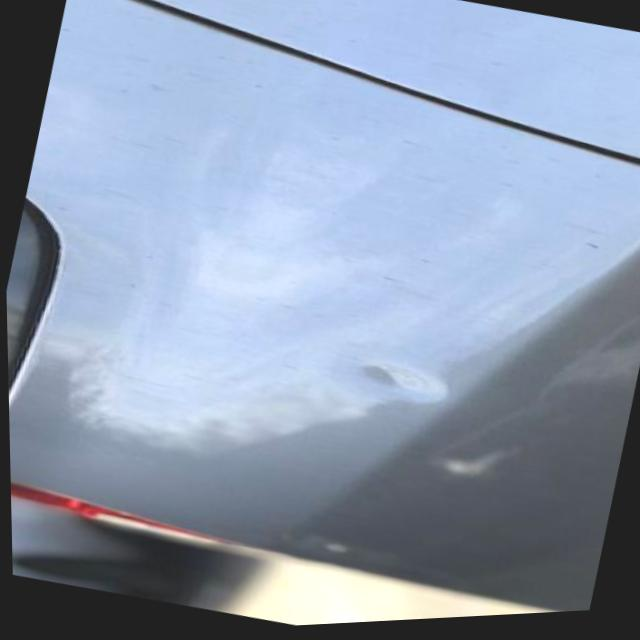Dent: (350, 353, 446, 400)
